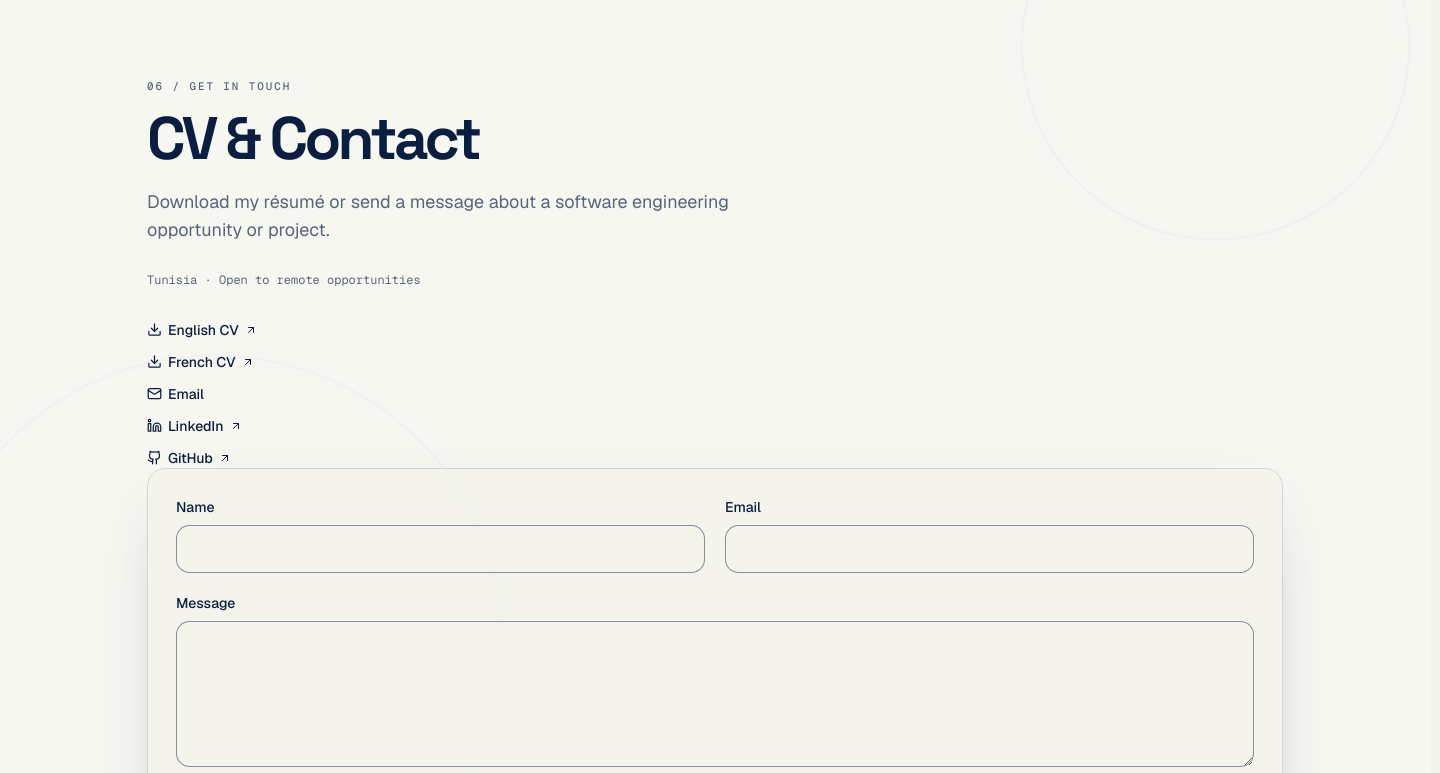
ContactSection › clears fields only after an explicit JSON success result
This screenshot has width=1440, height=773.
Type "Synthetic Tester" into the field labelled "Name".
click(440, 549); type("Synthetic Tester")  # box [176,525,705,573]
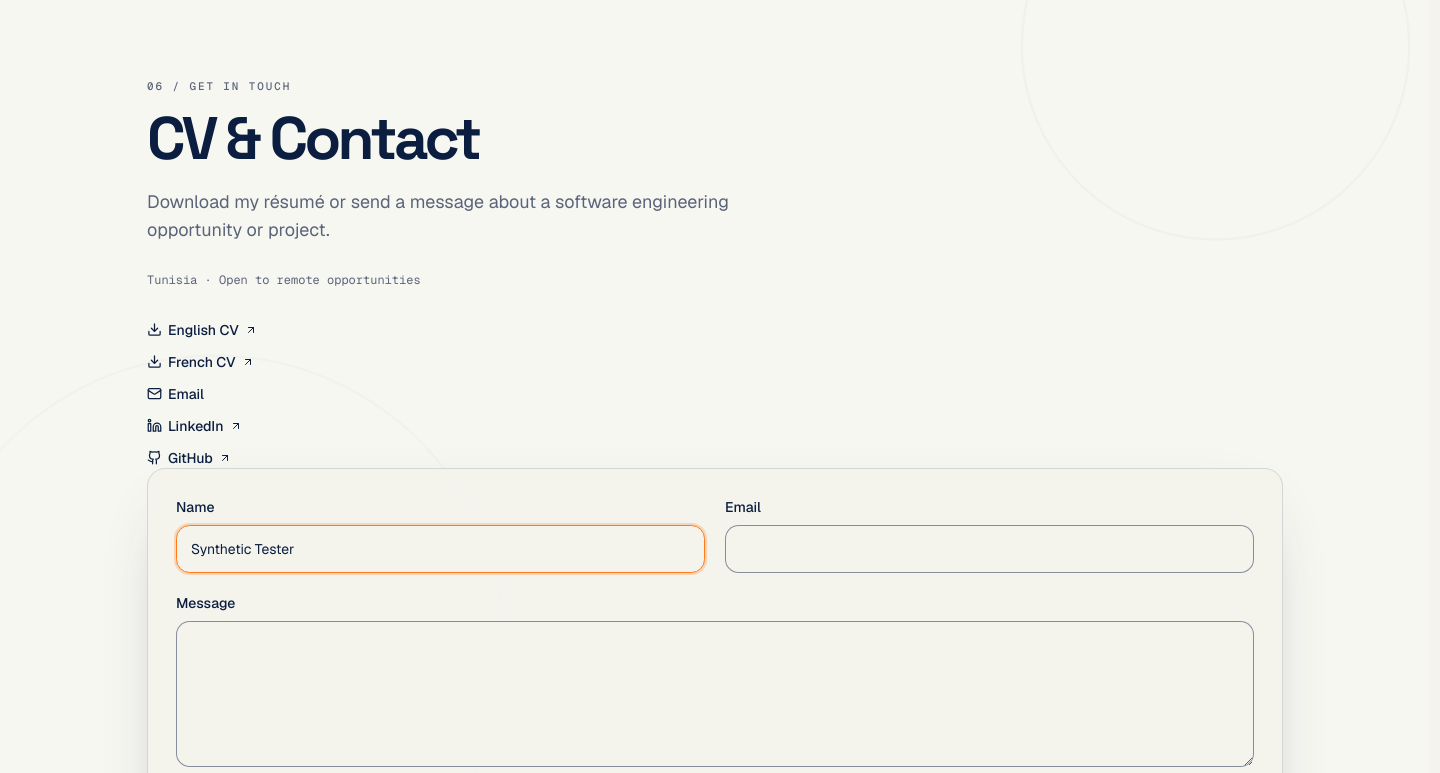
Type "tester@example.com" into the field labelled "Email".
click(990, 549); type("tester@example.com")  # box [725,525,1254,573]
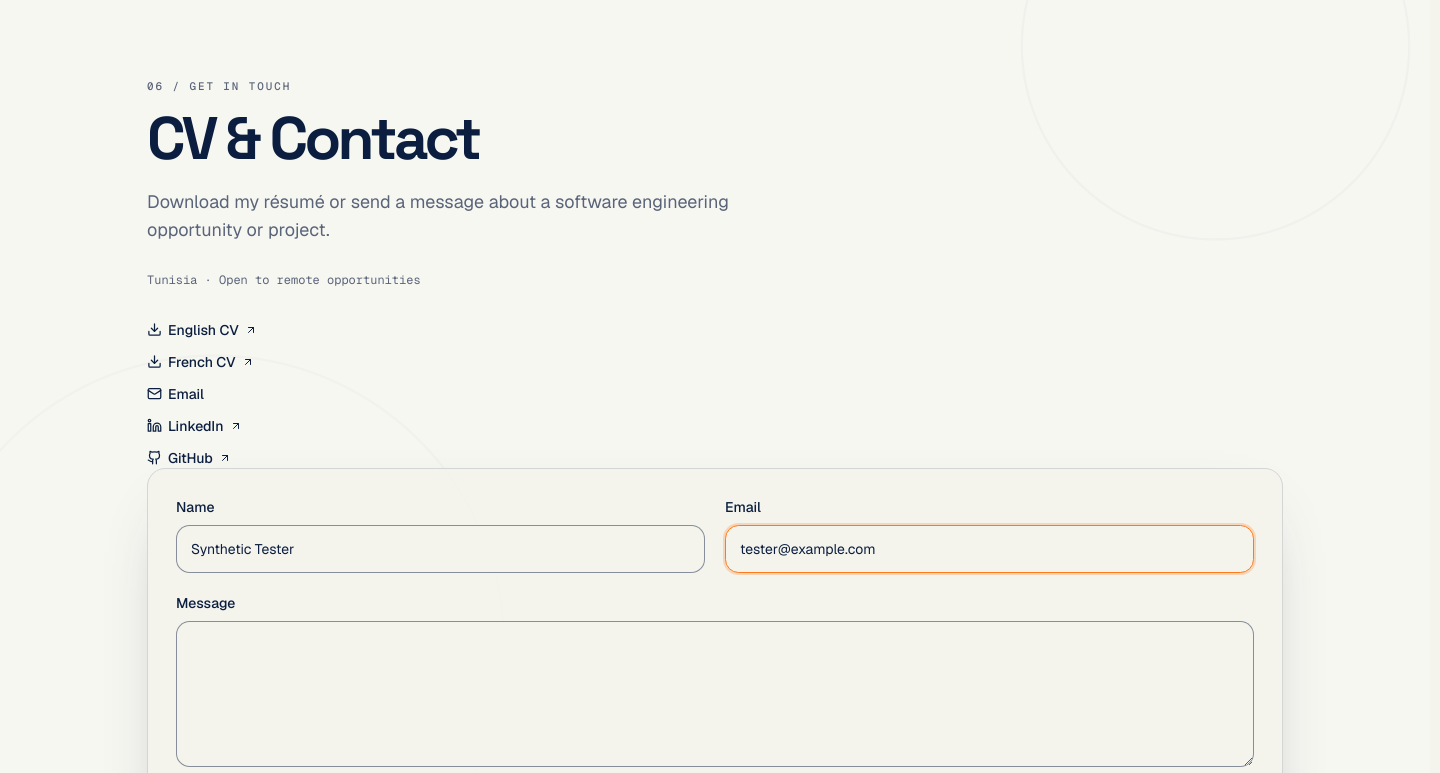
Type "This is a synthetic component test message." into the text box labelled "Message".
click(715, 694); type("This is a synthetic component test message.")  # box [176,621,1254,767]
(page scrolled)
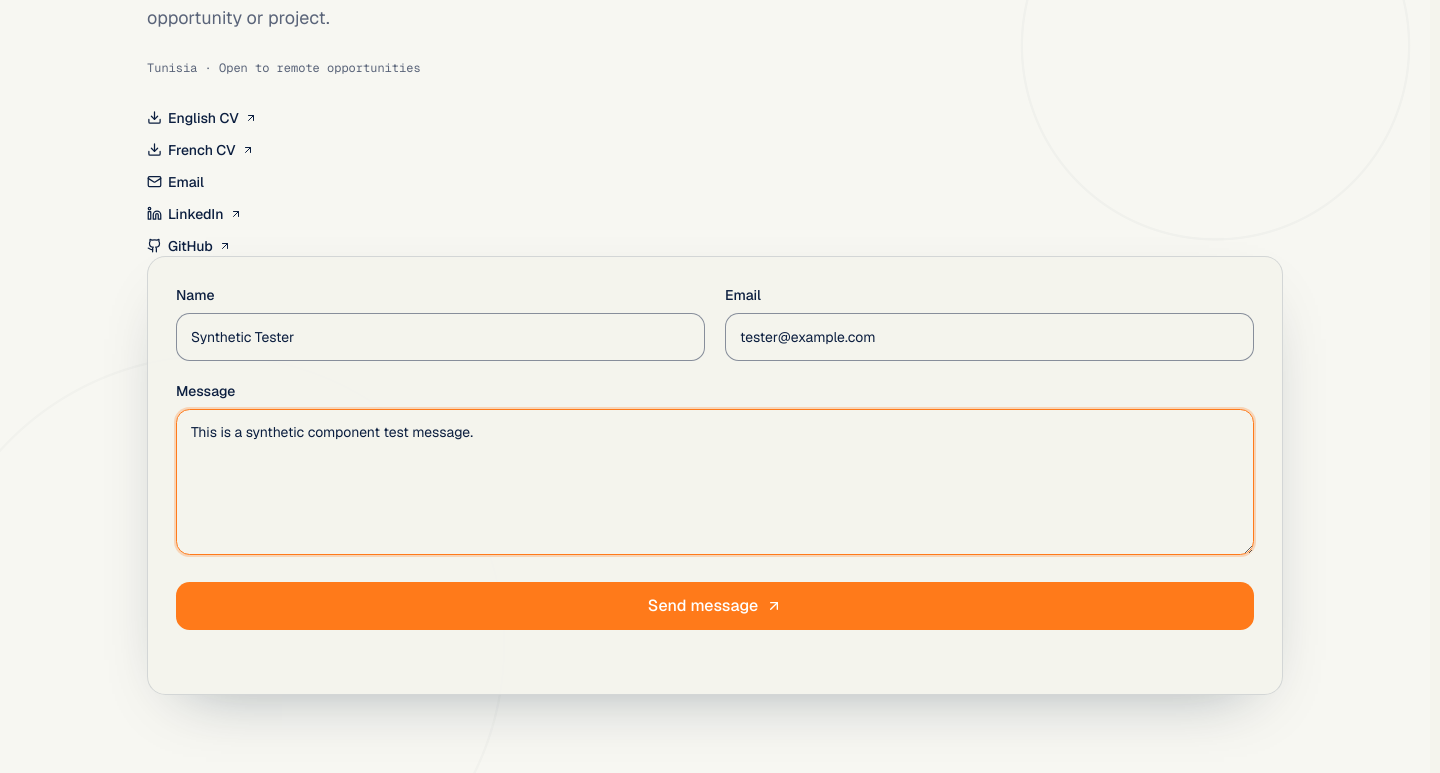
Click the button "Send message".
click(715, 606)  # box [176,582,1254,630]
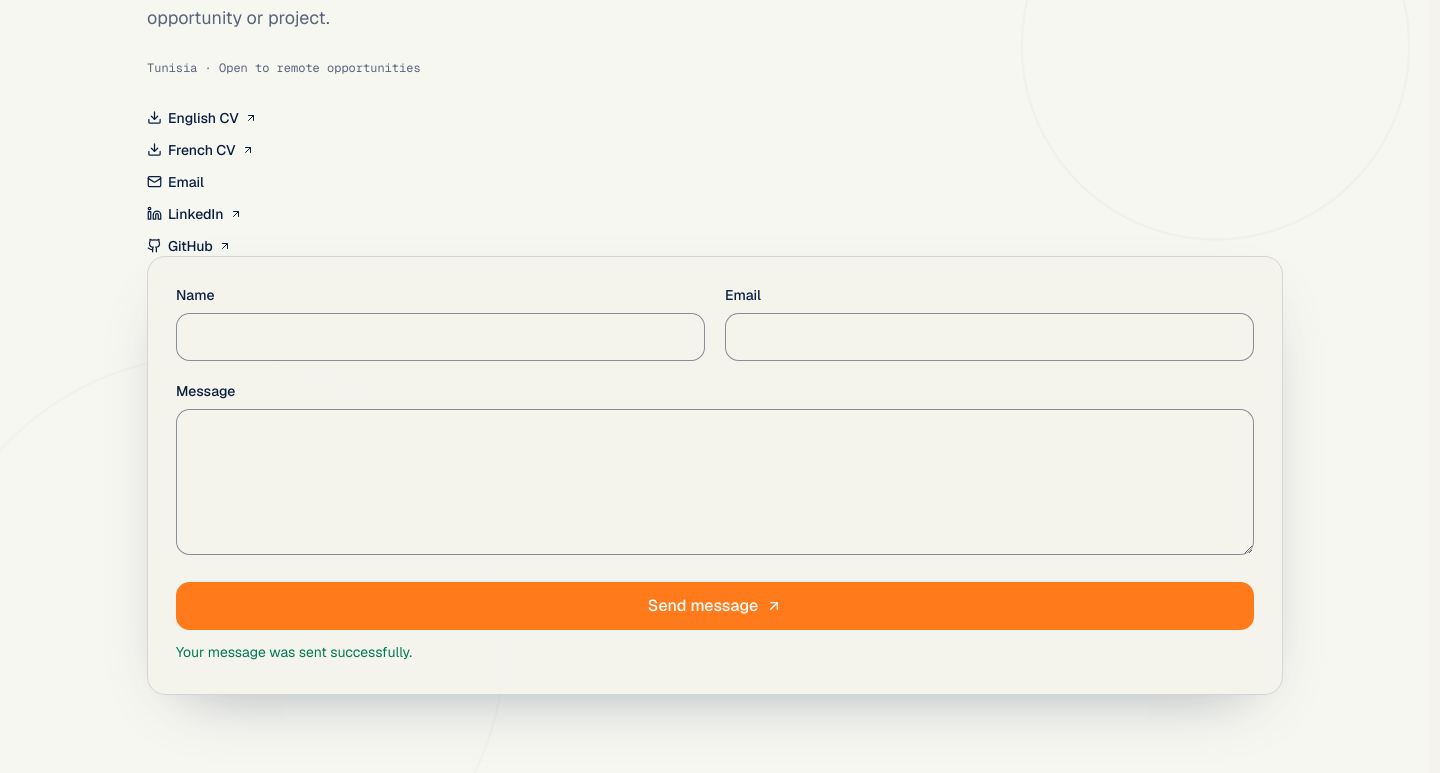
expect the text "Your message was sent successfully." is shown: met, box [176,643,412,661]
expect the field labelled "Name" is empty: met, box [176,313,705,361]
expect the field labelled "Email" is empty: met, box [725,313,1254,361]
